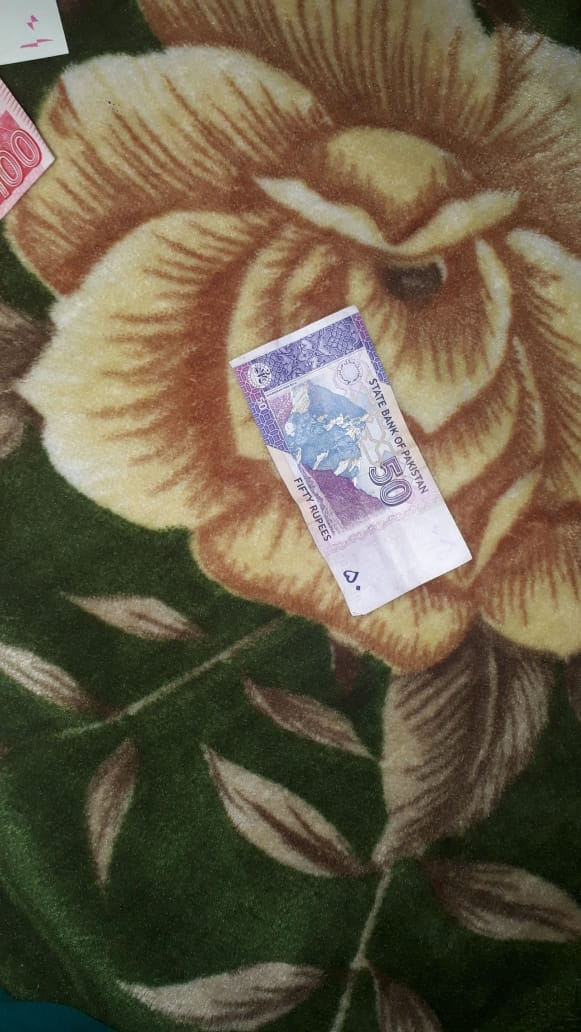50 rupee: (216, 307, 512, 685)
